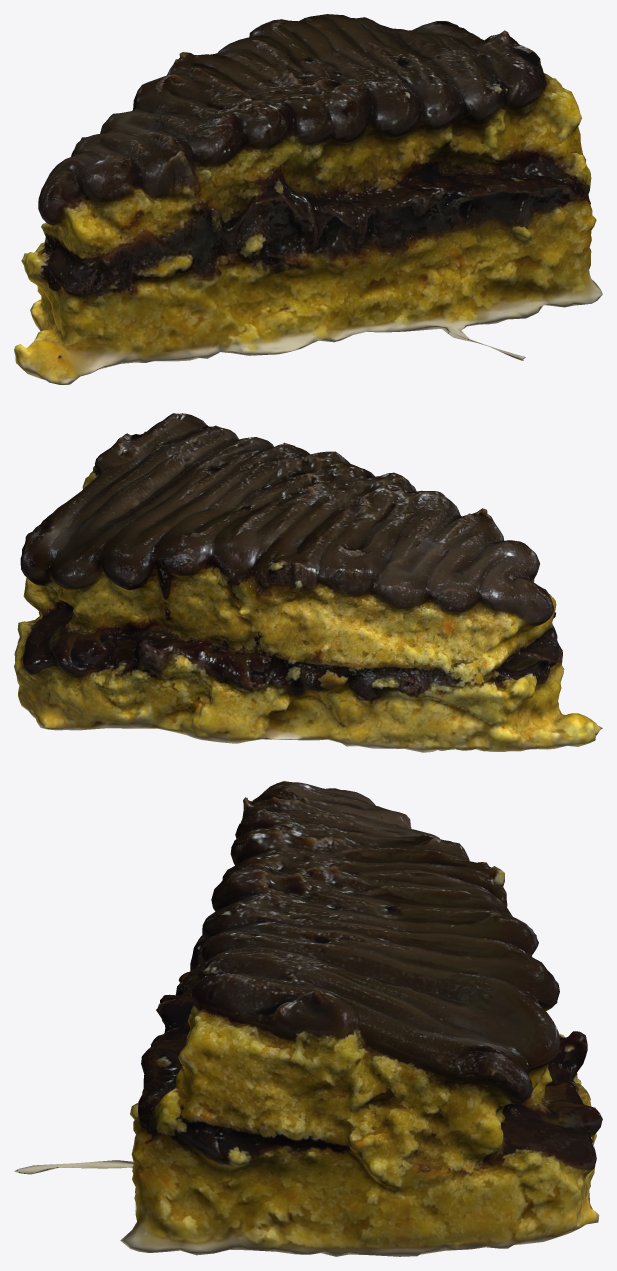
File: bolo_cenoura.glb
3 renders of one model, top to bottom at view 1: azimuth 30°, elevation 25°; view 2: azimuth 150°, elevation 25°; view 3: azimuth 270°, elevation 25°, orthographic. The views are drawn at different scales.
Parts seen in each view (by area): view 1: ObjectCapture; view 2: ObjectCapture; view 3: ObjectCapture.
Boxes of the visible parts, x1=… form: ObjectCapture: x1=14, y1=14, x2=602, y2=384; ObjectCapture: x1=14, y1=413, x2=602, y2=752; ObjectCapture: x1=14, y1=781, x2=602, y2=1256.
Bounding box in the file's own units: 0.1445 × 0.0583 × 0.1164.
Materials: 1 (1 with a texture image).
